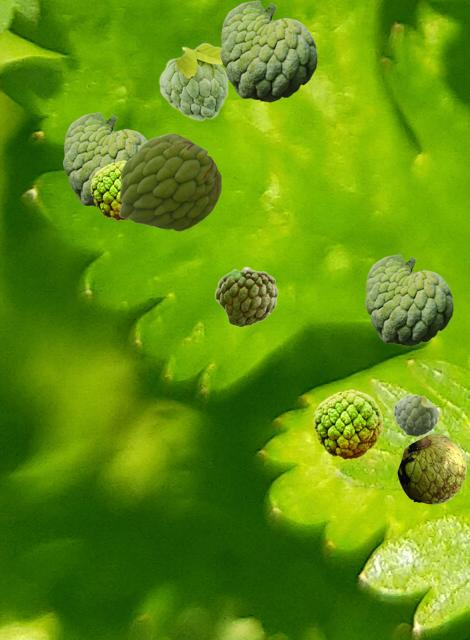atis: (119, 133, 220, 230), (220, 0, 316, 101), (63, 112, 147, 207), (365, 254, 452, 345), (158, 42, 228, 120), (397, 433, 465, 503), (313, 389, 381, 458), (214, 266, 277, 326), (90, 160, 126, 219), (393, 394, 438, 435)
